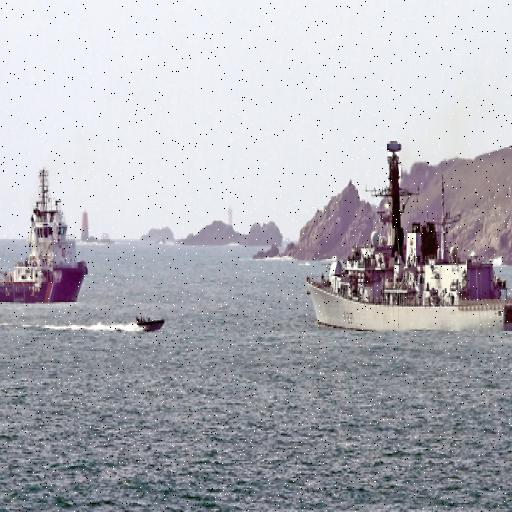Fragata: (305, 130, 512, 343)
